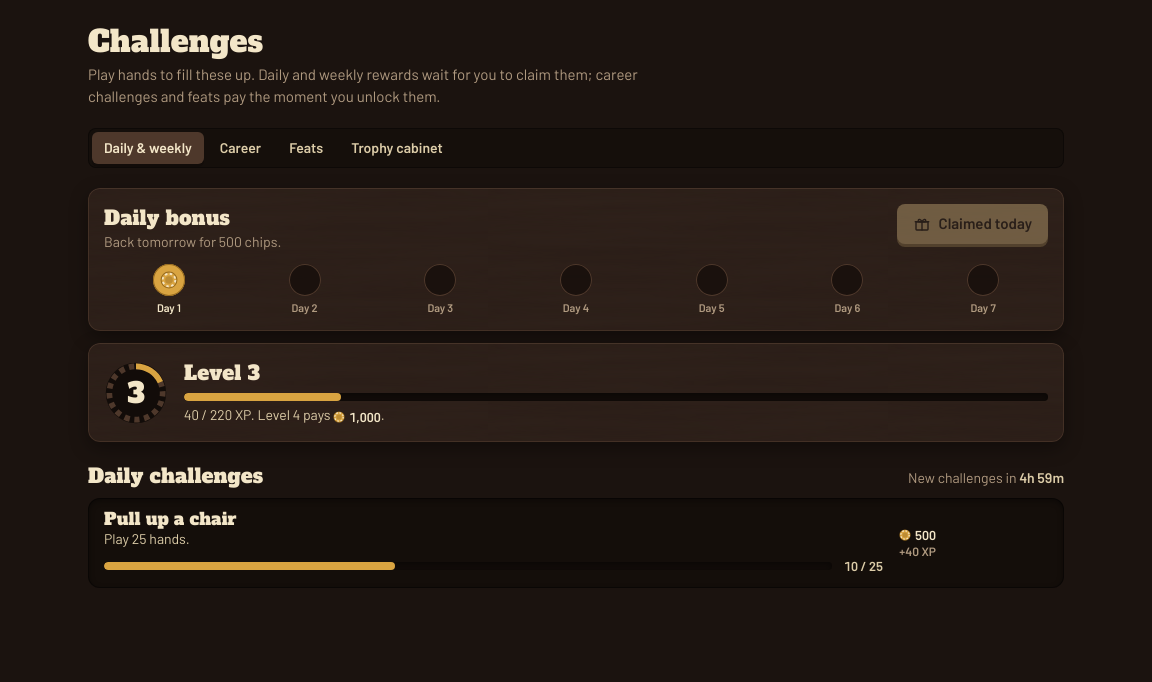
Test: ChallengesScreen keeps achievements fresh › fetches again on coming back from Daily & weekly, but not between achievement tabs, and keeps daily loaded
The image size is (1152, 682).
Expected: the element "Daily challenges" is shown, x1=88 y1=462 x2=1064 y2=588
Click the tab "Career" at (240, 148), box x1=208 y1=132 x2=273 y2=164
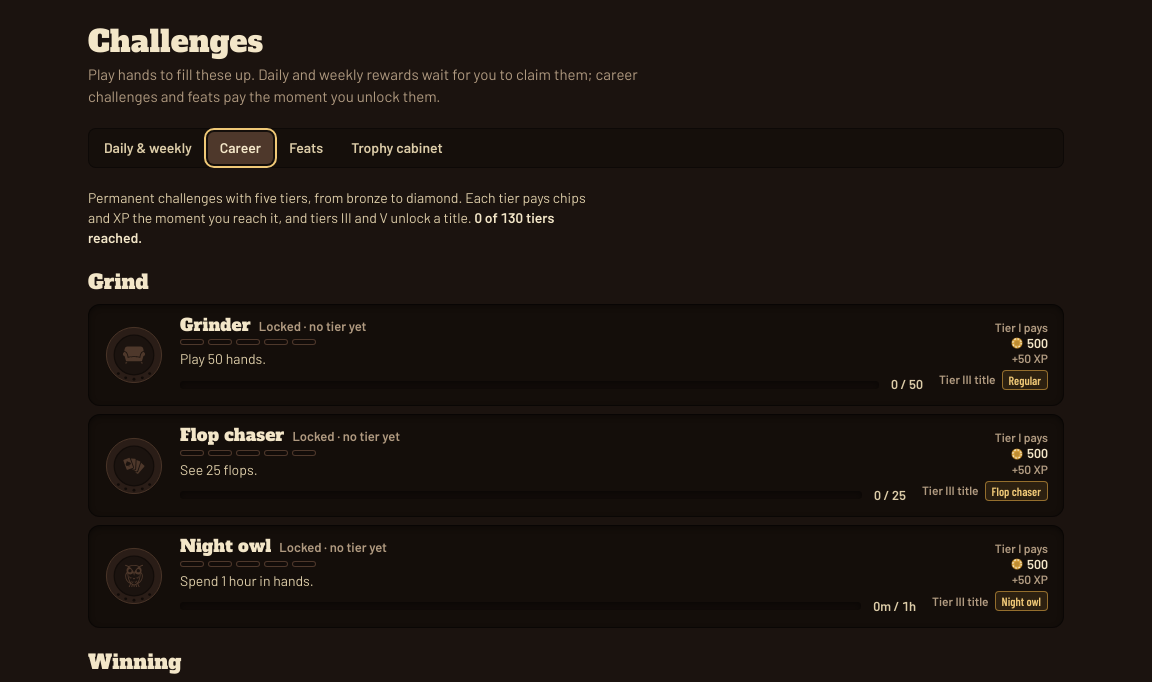
Expected: the heading "Grind" is shown, x1=88 y1=268 x2=149 y2=296
Click the tab "Feats" at (306, 148), box x1=277 y1=132 x2=335 y2=164
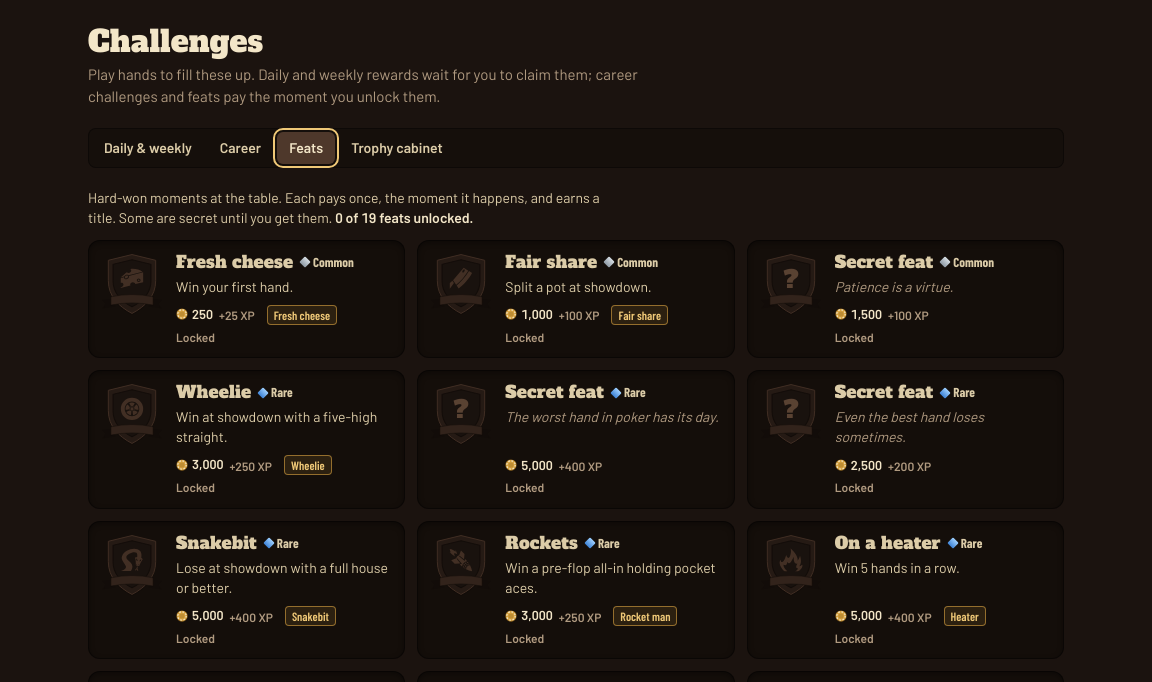
Note: Back to daily: shown at once from what was loaded, no refetch, no spinner.
Click the tab "Daily & weekly" at (148, 148), box x1=92 y1=132 x2=204 y2=164
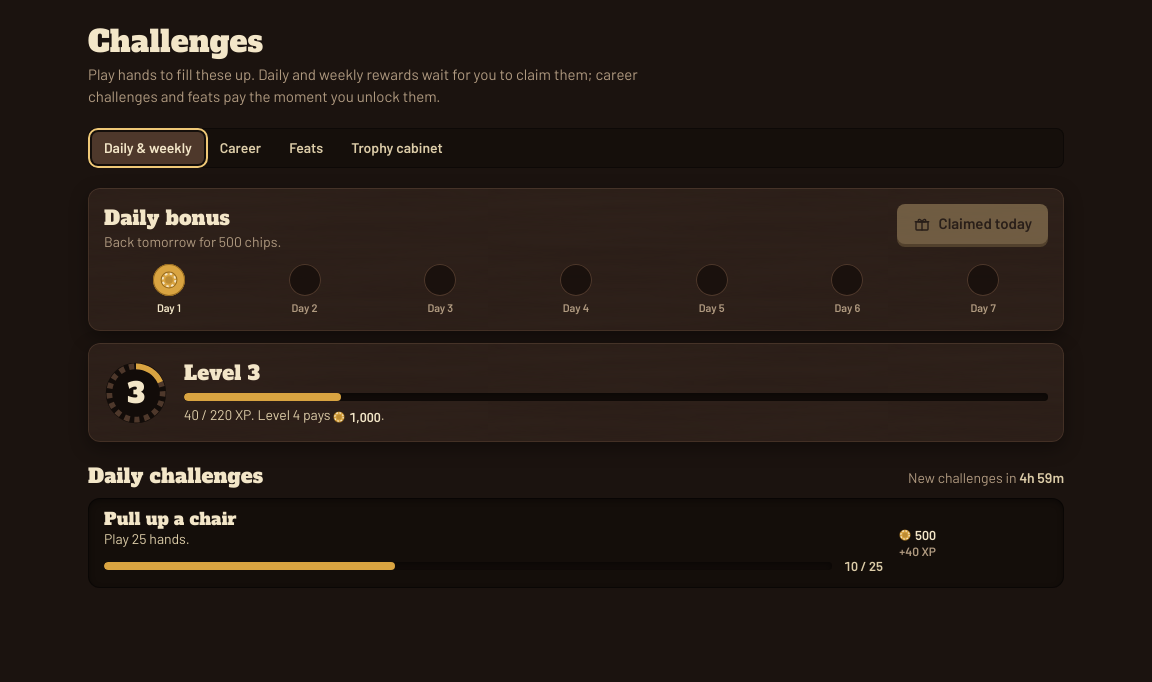
Expected: the element "Daily challenges" is shown, x1=88 y1=462 x2=1064 y2=588
Click the tab "Career" at (240, 148), box x1=208 y1=132 x2=273 y2=164
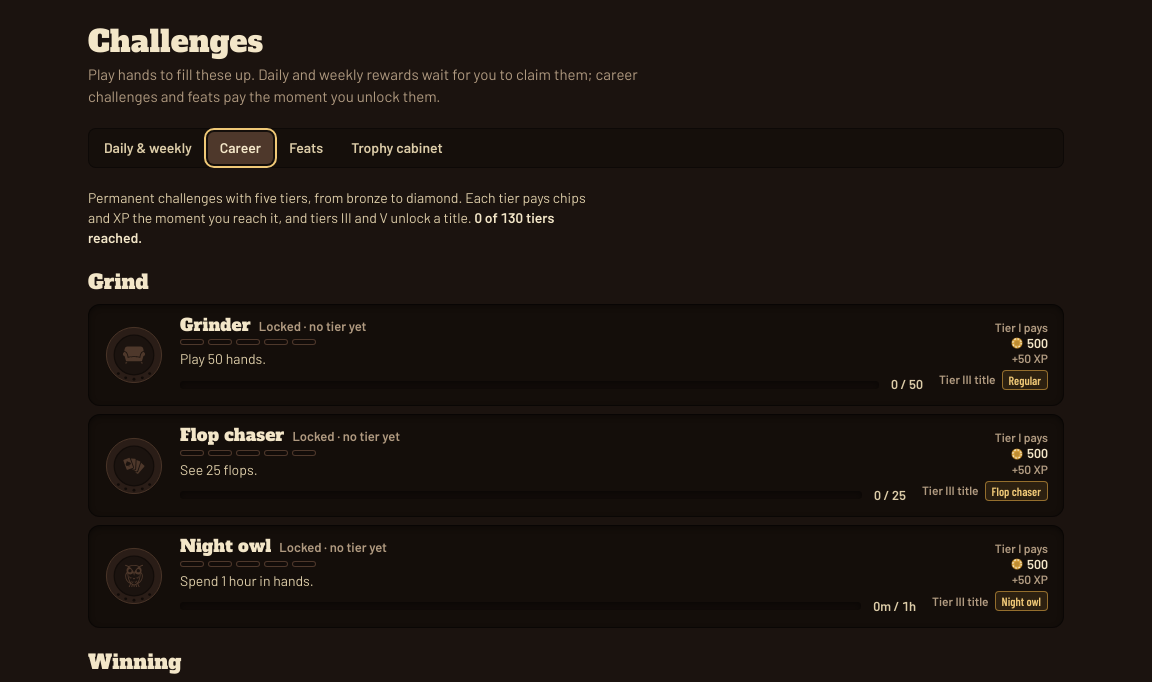
Expected: the heading "Grind" is shown, x1=88 y1=268 x2=149 y2=296
